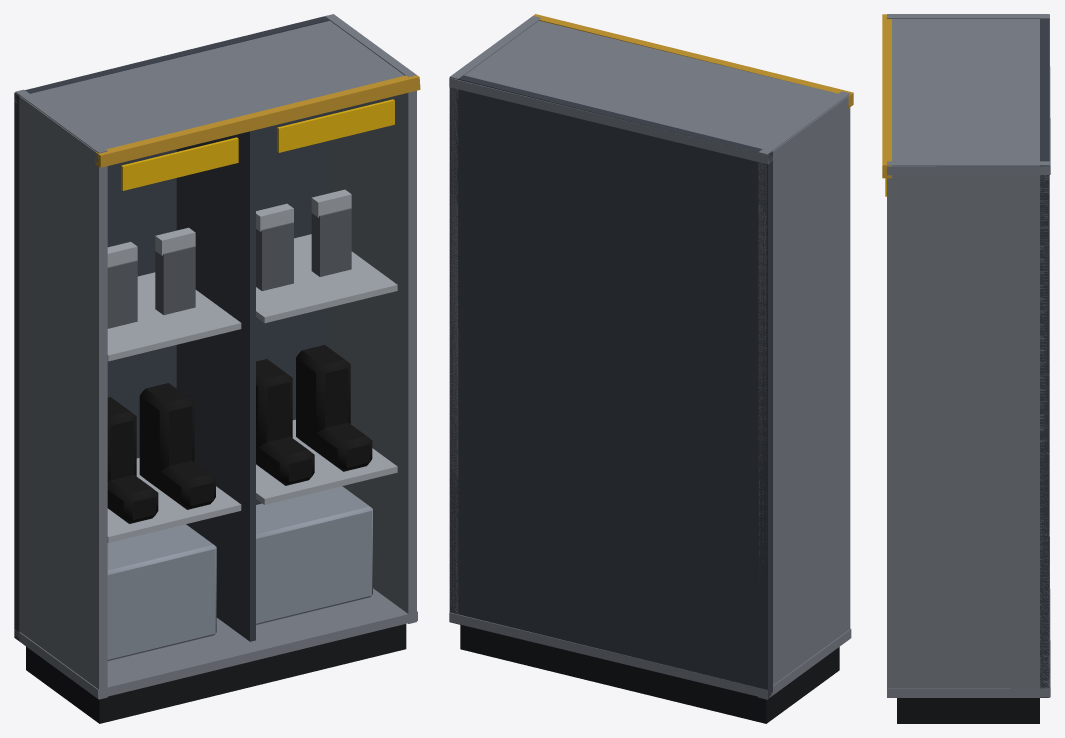
Rendered from suitrack_glove_boot_locker.glb.
The picture shows the model from 3 angles, left to right: view 1: azimuth 30°, elevation 25°; view 2: azimuth 150°, elevation 25°; view 3: azimuth 270°, elevation 25°; orthographic projection. The views are drawn at different scales.
Visible parts, largest first — view 1: suitrack_glove_boot_locker; view 2: suitrack_glove_boot_locker; view 3: suitrack_glove_boot_locker.
Part boxes in pixels (x1,y1,x2,y2): suitrack_glove_boot_locker: (14,14,420,723); suitrack_glove_boot_locker: (449,14,853,723); suitrack_glove_boot_locker: (882,14,1050,723).
Size of the model in its own units: 1.11 by 1.9 by 0.518.
